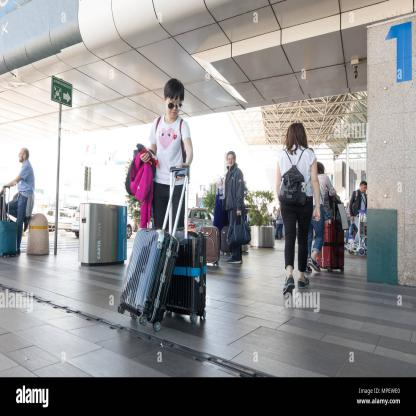airport-trolley: (342, 209, 370, 257)
